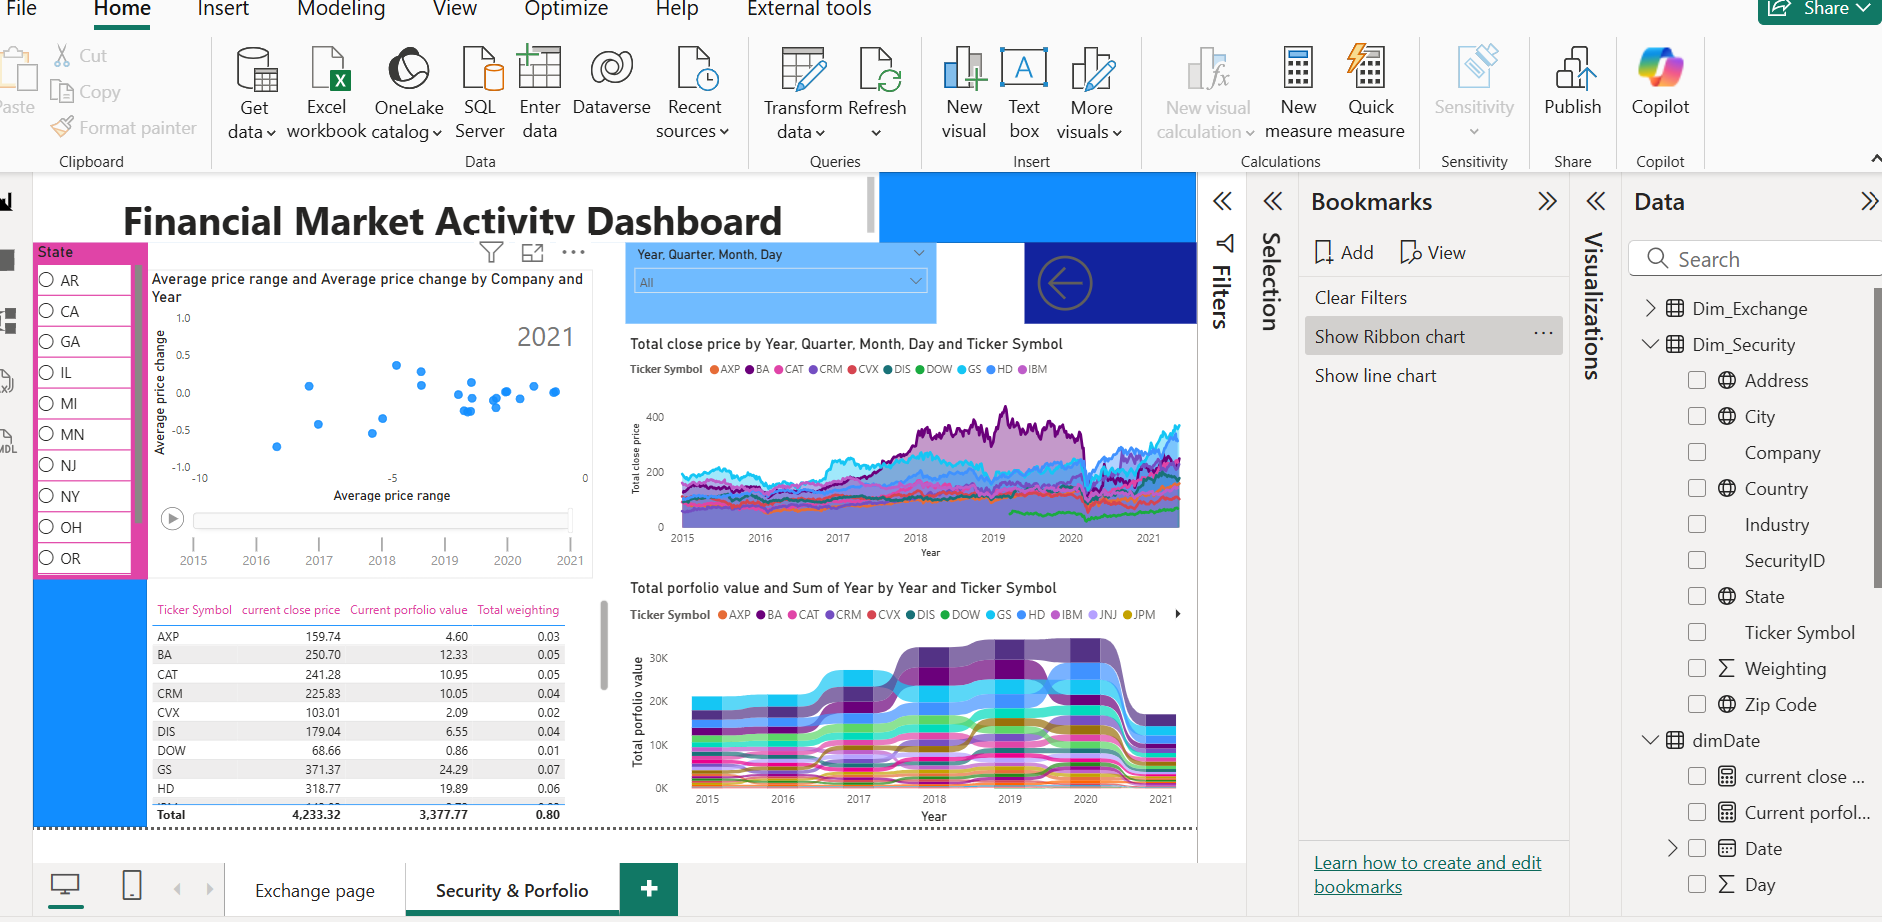

This screenshot's page, from the dashboard's own definition file:
{"tool":"powerbi","page":{"name":"Security & Porfolio","canvas":[1280,720],"ordinal":1},"visuals":[{"type":"ribbonChart","fields":{"Category":["dimDate.Date.Variation.Date Hierarchy.Year","dimDate.Date.Variation.Date Hierarchy.Quarter","dimDate.Date.Variation.Date Hierarchy.Month","dimDate.Date.Variation.Date Hierarchy.Day"],"Y":["factActivity.Total porfolio value"],"Series":["Dim_Security.Ticker Symbol"]},"box":[652.2,447,626.7,273.6],"z":0},{"type":"shape","box":[0,0,1278.9,77.9],"z":1000},{"type":"shape","box":[0,77.9,125.7,642.6],"z":2000},{"type":"textbox","box":[0,0,930.5,77.9],"z":3000},{"type":"tableEx","fields":{"Values":["Dim_Security.Ticker Symbol","dimDate.current close price","dimDate.Current porfolio value","factActivity.Total weighting"]},"box":[125.7,464.5,512.2,256.1],"z":4000},{"type":"areaChart","fields":{"Y":["factActivity.Total close price"],"Series":["Dim_Security.Ticker Symbol"],"Category":["dimDate.Date.Variation.Date Hierarchy.Year","dimDate.Date.Variation.Date Hierarchy.Quarter","dimDate.Date.Variation.Date Hierarchy.Month","dimDate.Date.Variation.Date Hierarchy.Day"]},"box":[652.2,178.1,626.7,251.3],"z":5000},{"type":"scatterChart","fields":{"Category":["Dim_Security.Company"],"X":["factActivity.Average price range"],"Y":["factActivity.Average price change"],"Play":["dimDate.Year"]},"box":[125.7,106.6,489.9,340.4],"z":6000},{"type":"slicer","fields":{"Values":["dimDate.Date.Variation.Date Hierarchy.Year","dimDate.Date.Variation.Date Hierarchy.Quarter","dimDate.Date.Variation.Date Hierarchy.Month","dimDate.Date.Variation.Date Hierarchy.Day"]},"box":[652.2,77.9,342,89.1],"z":7000},{"type":"actionButton","box":[1089.6,77.9,189.3,89.1],"z":8000},{"type":"ribbonChart","fields":{"Category":["dimDate.Date.Variation.Date Hierarchy.Year","dimDate.Date.Variation.Date Hierarchy.Quarter","dimDate.Date.Variation.Date Hierarchy.Month","dimDate.Date.Variation.Date Hierarchy.Day"],"Y":["factActivity.Total porfolio value"],"Series":["Dim_Security.Ticker Symbol"]},"box":[652.2,446.4,626.7,273.6],"z":9000},{"type":"listSlicer","fields":{"Values":["Dim_Security.State"]},"box":[0,77.2,126,369.8],"z":9002}]}

Visuals, with their boxes on the page's 1280x720 design canvas (x1, y1, x2, y2). These are canvas units, not pixel positions in the 1882x922 screenshot, which may show the page scaled, cropped or inside an application window:
ribbonChart - dimDate.Date.Variation.Date Hierarchy.Year x dimDate.Date.Variation.Date Hierarchy.Quarter: bbox=[652, 447, 1279, 721]
shape: bbox=[0, 0, 1279, 78]
shape: bbox=[0, 78, 126, 720]
textbox: bbox=[0, 0, 930, 78]
tableEx - Dim_Security.Ticker Symbol x dimDate.current close price: bbox=[126, 464, 638, 721]
areaChart - factActivity.Total close price x Dim_Security.Ticker Symbol: bbox=[652, 178, 1279, 429]
scatterChart - Dim_Security.Company x factActivity.Average price range: bbox=[126, 107, 616, 447]
slicer - dimDate.Date.Variation.Date Hierarchy.Year x dimDate.Date.Variation.Date Hierarchy.Quarter: bbox=[652, 78, 994, 167]
actionButton: bbox=[1090, 78, 1279, 167]
ribbonChart - dimDate.Date.Variation.Date Hierarchy.Year x dimDate.Date.Variation.Date Hierarchy.Quarter: bbox=[652, 446, 1279, 720]
listSlicer - Dim_Security.State: bbox=[0, 77, 126, 447]
